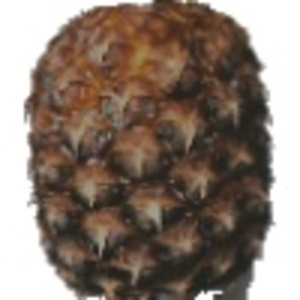abacaxi: (23, 1, 274, 297)
